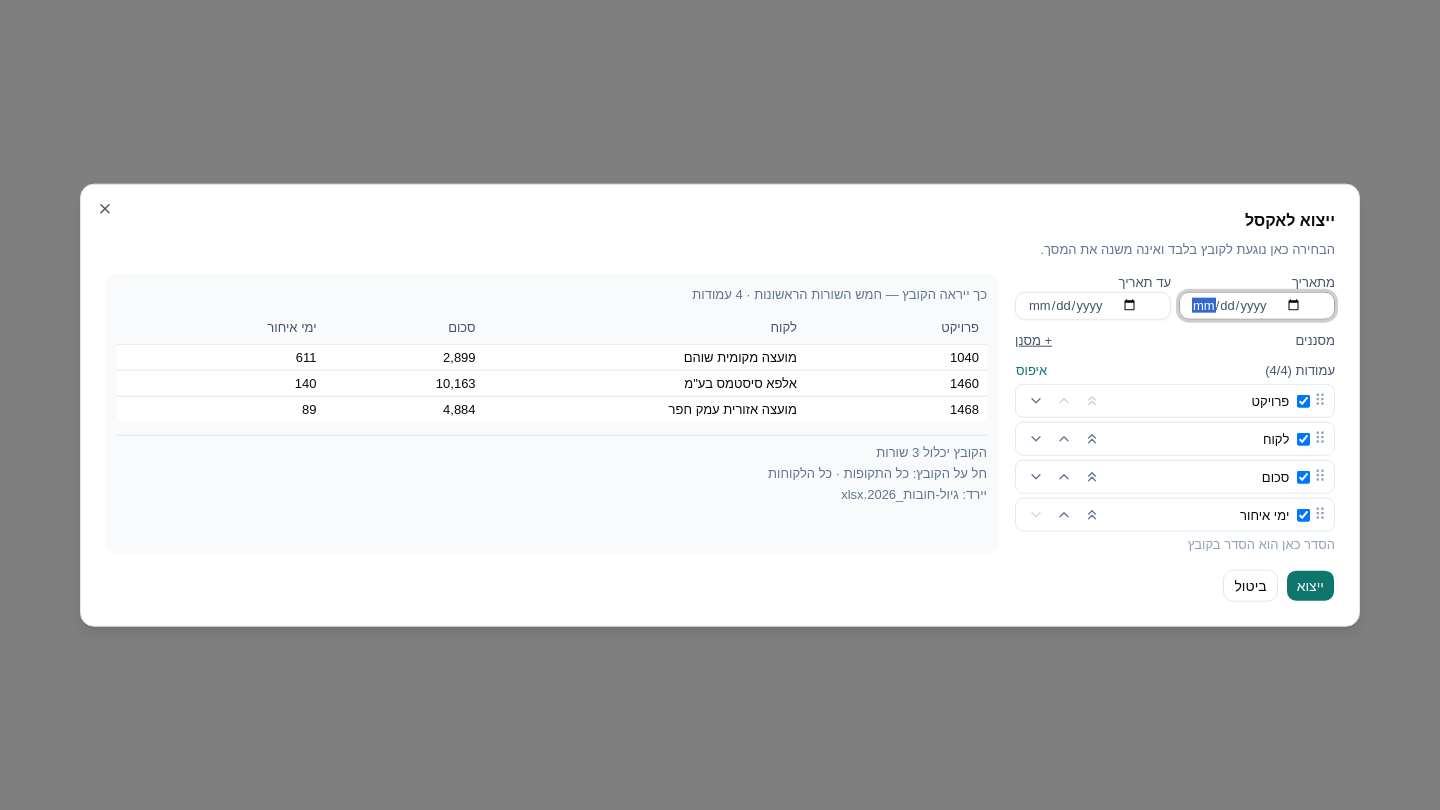
Test: ExportDialog — סינון › מסנן מצמצם את השורות, ושורת-הכמות עוקבת
Click the button with test id "export-add-filter" at (1034, 340), box [1015, 331, 1052, 349]
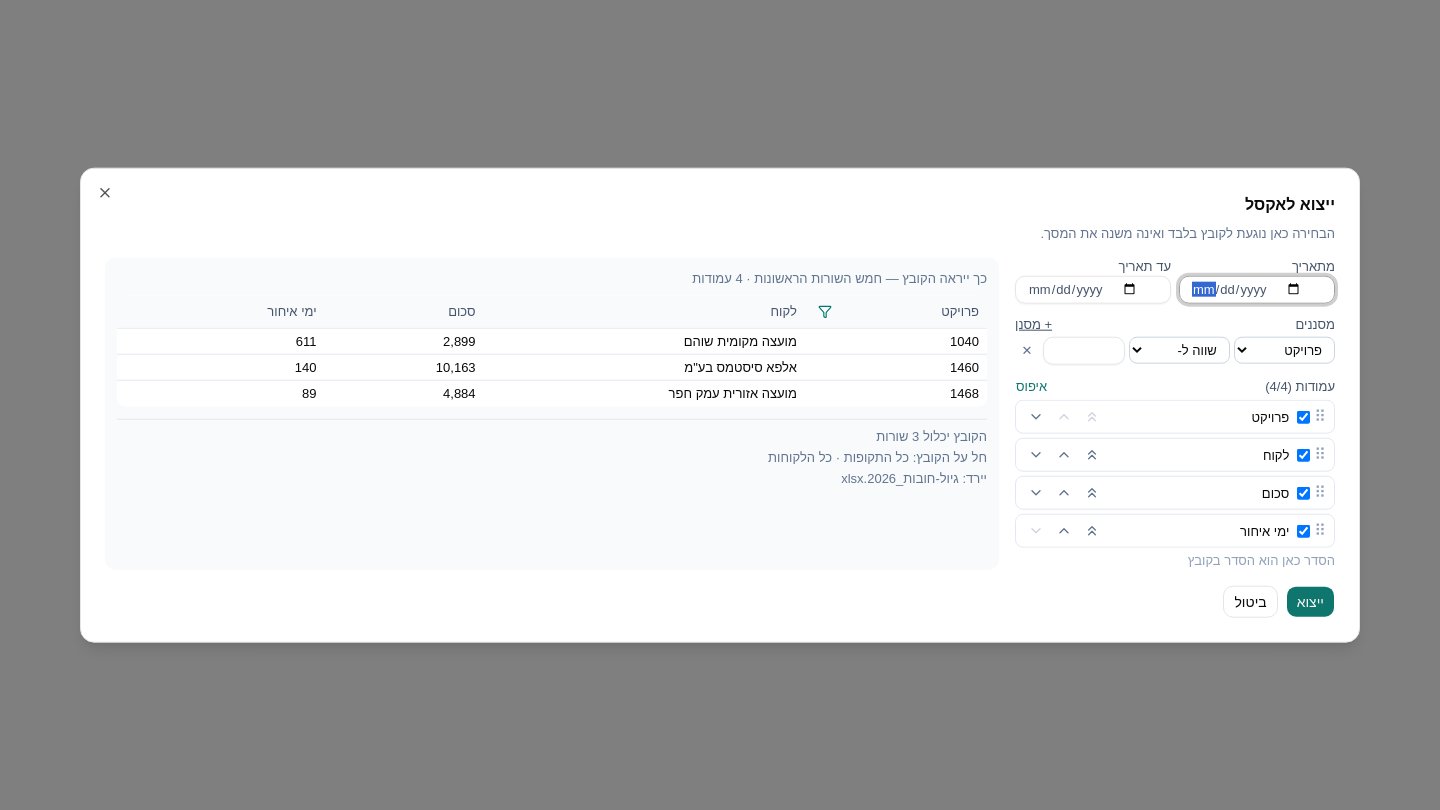
Select "ימי איחור" in the dropdown named "עמודה לסינון" at (1284, 351), box [1234, 337, 1335, 364]
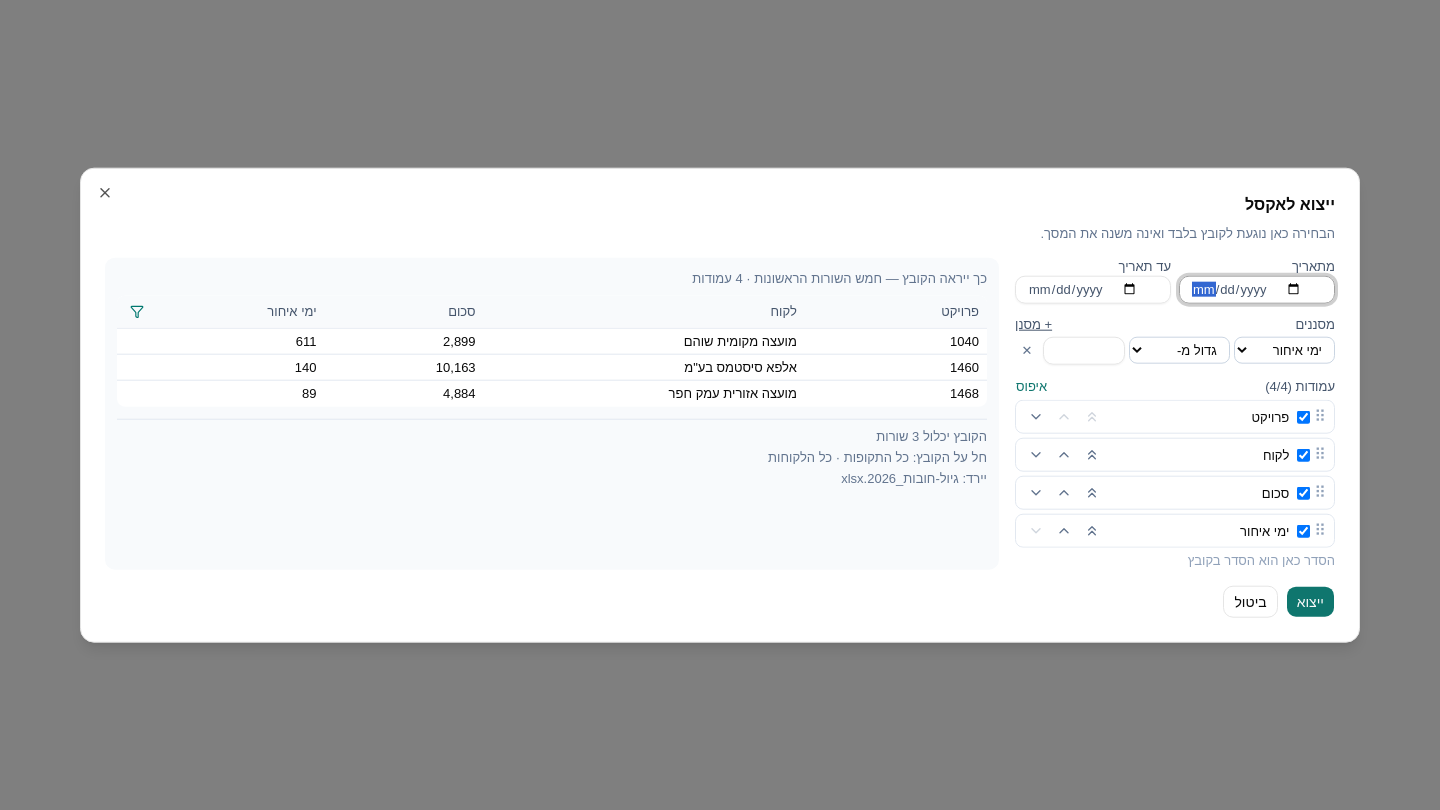
Select "גדול מ-" in the dropdown named "תנאי" at (1179, 351), box [1128, 337, 1230, 364]
Type "100" into the field named "ערך" at (1084, 351), box [1043, 337, 1124, 365]
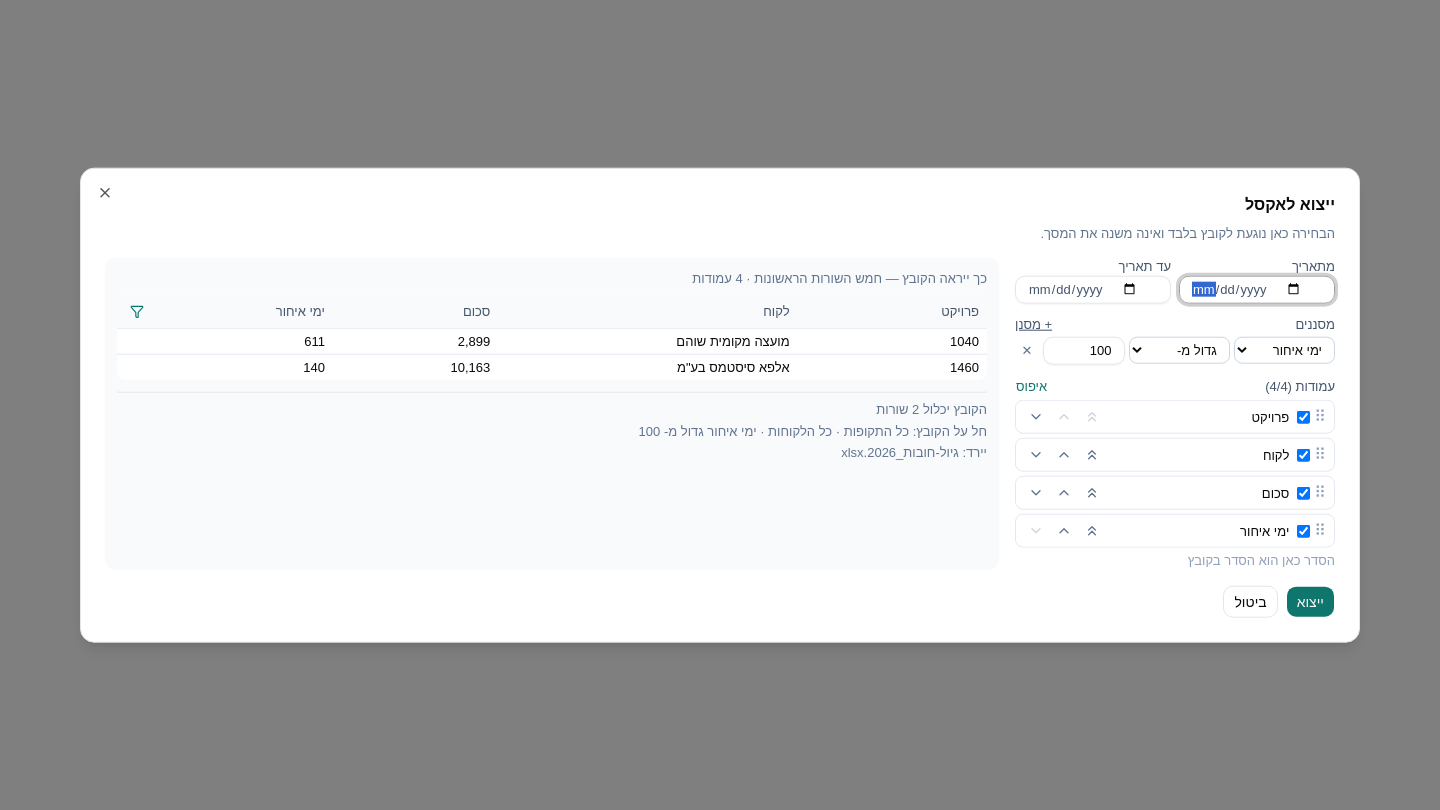
Result: the text with test id "export-count" reads "הקובץ יכלול 2 שורות" at [876, 402, 987, 417]
